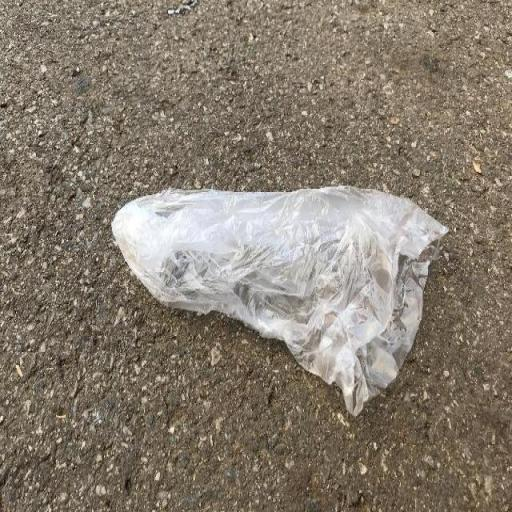plastic-bag: (111, 181, 454, 419)
